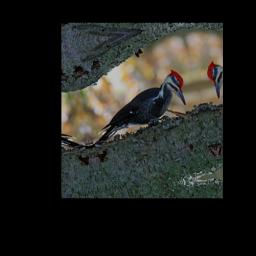Woodpecker: (74, 67, 197, 147)
